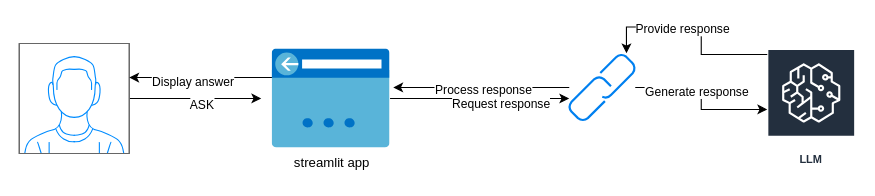
Some shapes in this 875 by 196 pixel diagram are drawn without their labels. Here are the shapes that lost their labels. From the top down, the centre of each, then its label:
[73,97]: User
[602,87]: LangChain
